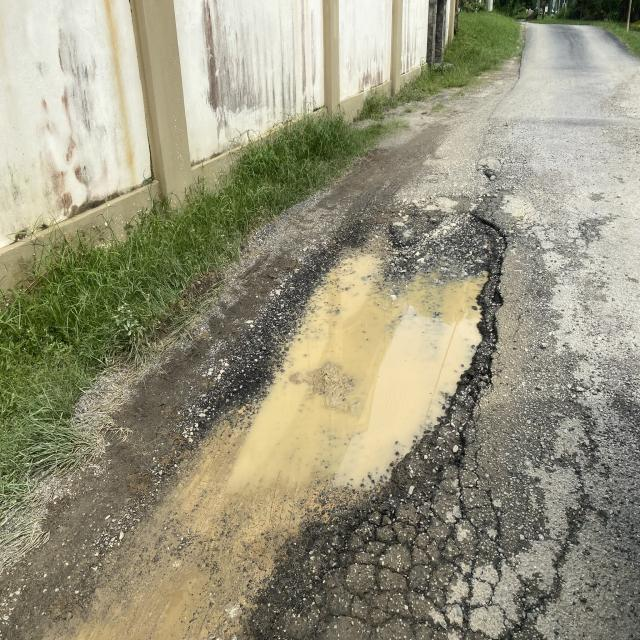Pothole: (276, 189, 516, 564)
